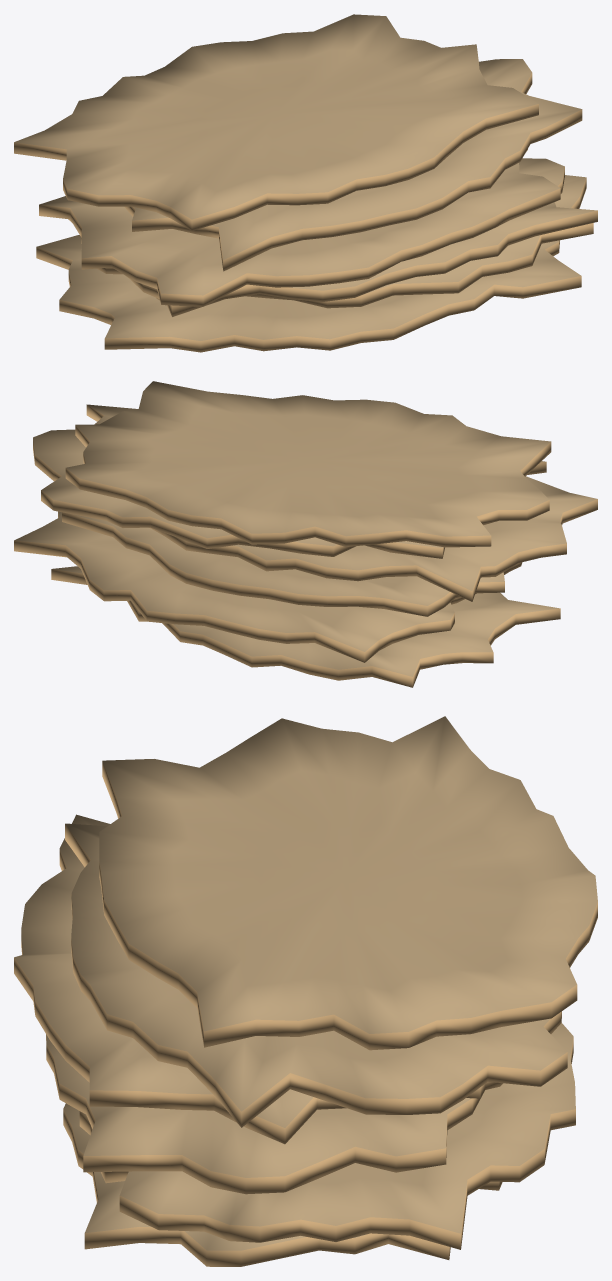
Rendered from w3d_pelt_goat_hide_l.glb.
3 views of the same model, one above another, from view 1: azimuth 30°, elevation 25°; view 2: azimuth 150°, elevation 25°; view 3: azimuth 270°, elevation 25° (orthographic). The views are drawn at different scales.
Parts seen in each view (by area): view 1: w3d_pelt_goat_hide_l; view 2: w3d_pelt_goat_hide_l; view 3: w3d_pelt_goat_hide_l.
Boxes of the visible parts, x1,y1,x2,y2 form: w3d_pelt_goat_hide_l: [14, 14, 597, 352]; w3d_pelt_goat_hide_l: [14, 381, 597, 687]; w3d_pelt_goat_hide_l: [14, 716, 597, 1266].
Size of the model in its own units: 0.708 by 0.2166 by 0.4904.
